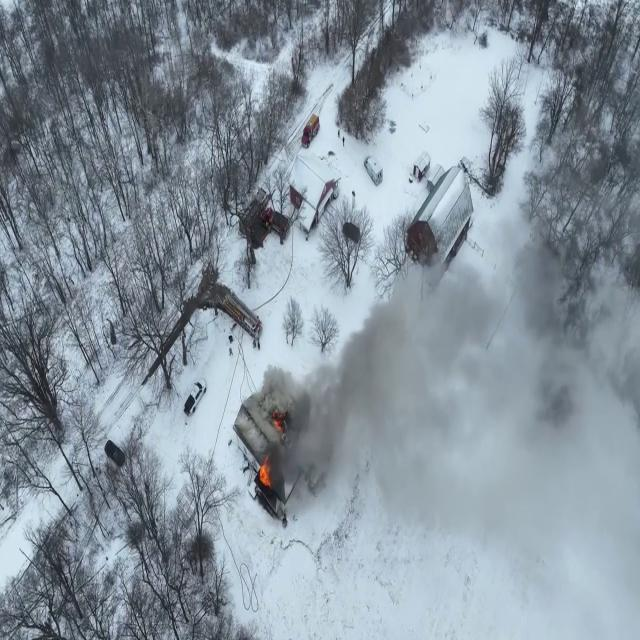Fire: (257, 446, 271, 495)
Smoke: (270, 132, 640, 632)
